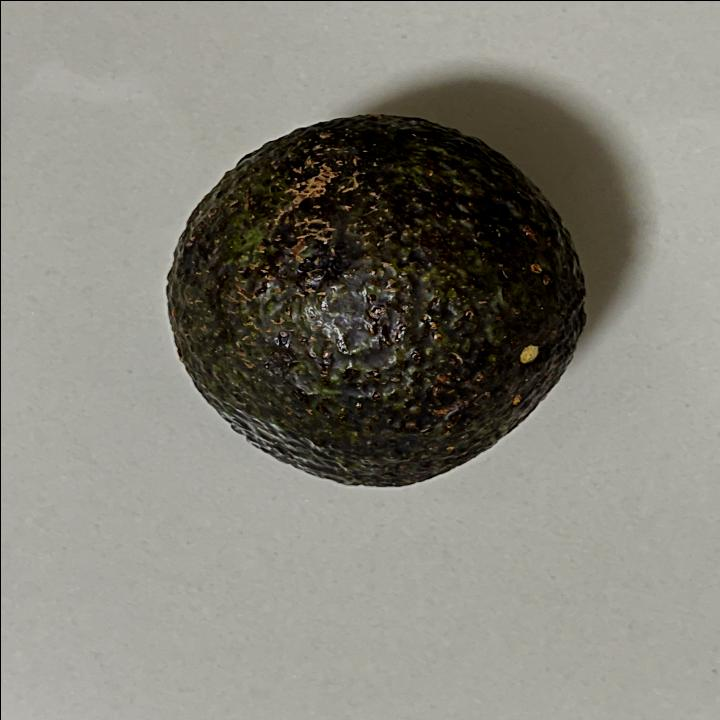Level1: (145, 105, 604, 504)
